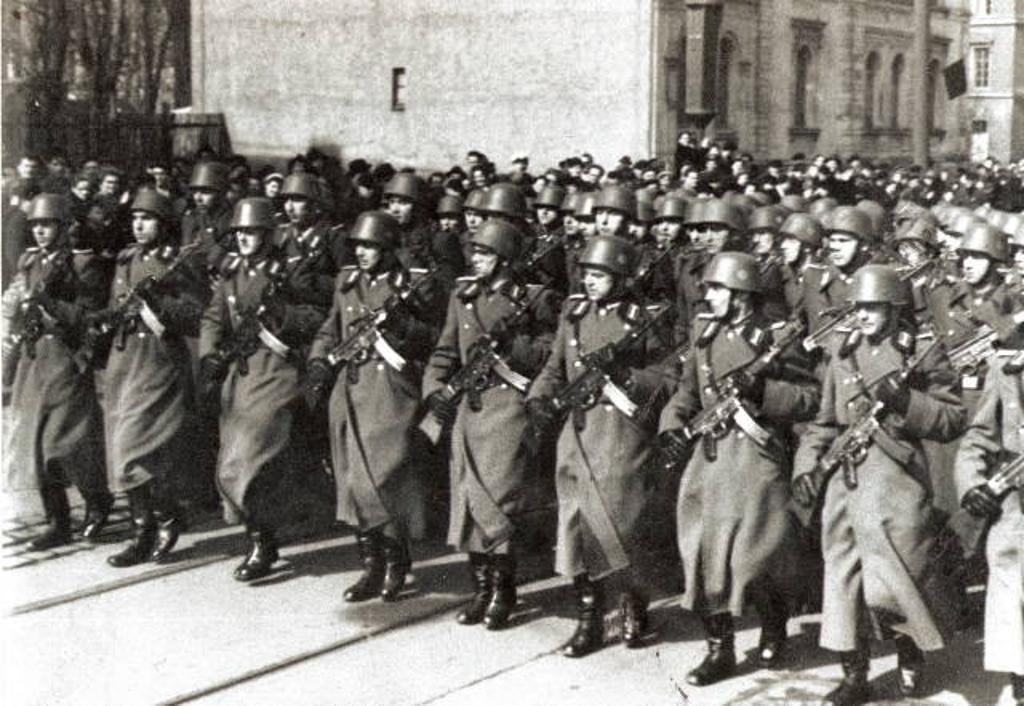human_face: (704, 275, 740, 317), (854, 299, 886, 335), (962, 247, 992, 283), (828, 228, 858, 264), (698, 218, 728, 252), (470, 243, 500, 277), (584, 264, 612, 300), (594, 203, 624, 235), (30, 214, 58, 246), (354, 234, 380, 268), (236, 223, 262, 255), (132, 211, 158, 243), (388, 194, 414, 224), (284, 193, 310, 223), (577, 212, 603, 239), (656, 213, 680, 241), (192, 184, 216, 212), (752, 222, 774, 252), (686, 224, 708, 254), (487, 206, 509, 235), (781, 232, 803, 260), (624, 216, 646, 242), (563, 209, 583, 235), (944, 233, 964, 259), (536, 197, 556, 222), (905, 240, 927, 262), (465, 208, 485, 232), (438, 210, 458, 234), (928, 218, 946, 242), (1014, 240, 1024, 272), (19, 161, 35, 179), (88, 208, 102, 226), (74, 181, 88, 199), (102, 176, 116, 194), (83, 163, 97, 179), (152, 168, 164, 184), (50, 158, 62, 172), (266, 182, 278, 196), (292, 161, 304, 175), (512, 163, 524, 177), (568, 164, 580, 176), (474, 171, 484, 185), (467, 156, 477, 170), (247, 179, 257, 192), (450, 172, 460, 185), (589, 170, 599, 182), (532, 179, 542, 191), (567, 183, 577, 195), (687, 174, 697, 186), (580, 157, 590, 169), (644, 172, 652, 185), (737, 175, 747, 185), (827, 160, 837, 170), (661, 174, 669, 186), (746, 186, 754, 196), (681, 135, 689, 145)
